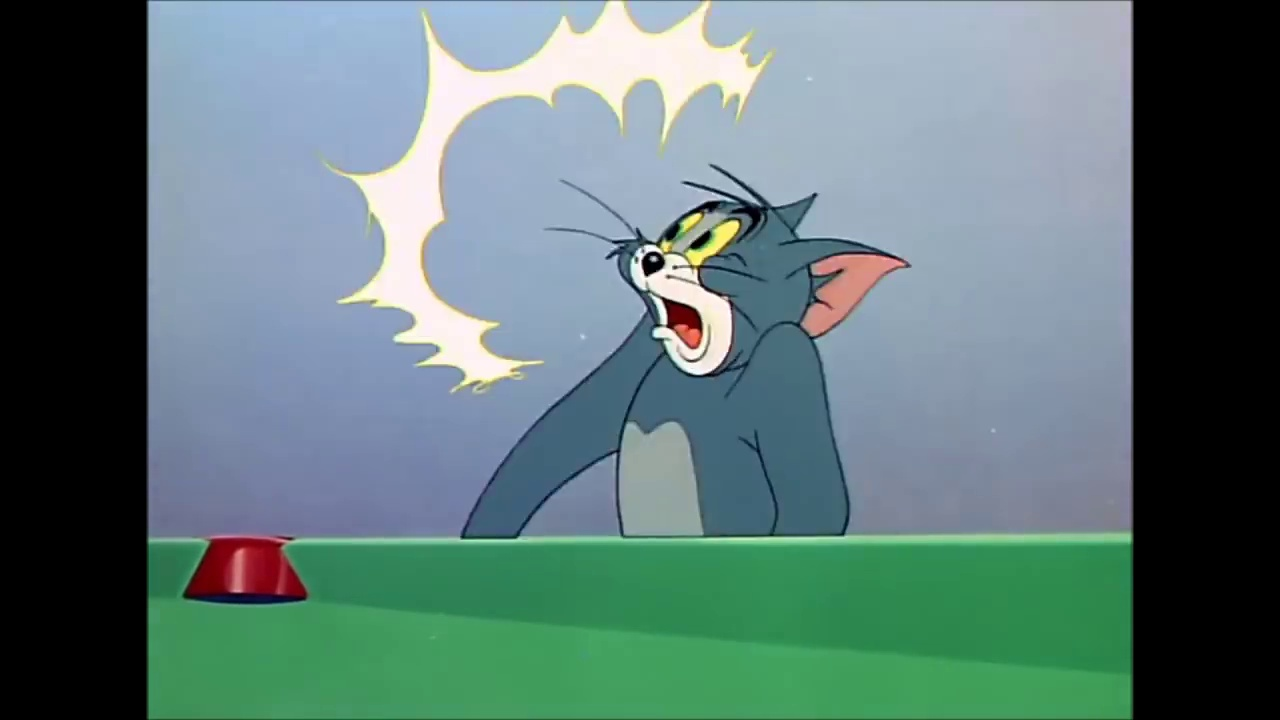surprised: (646, 198, 777, 377)
